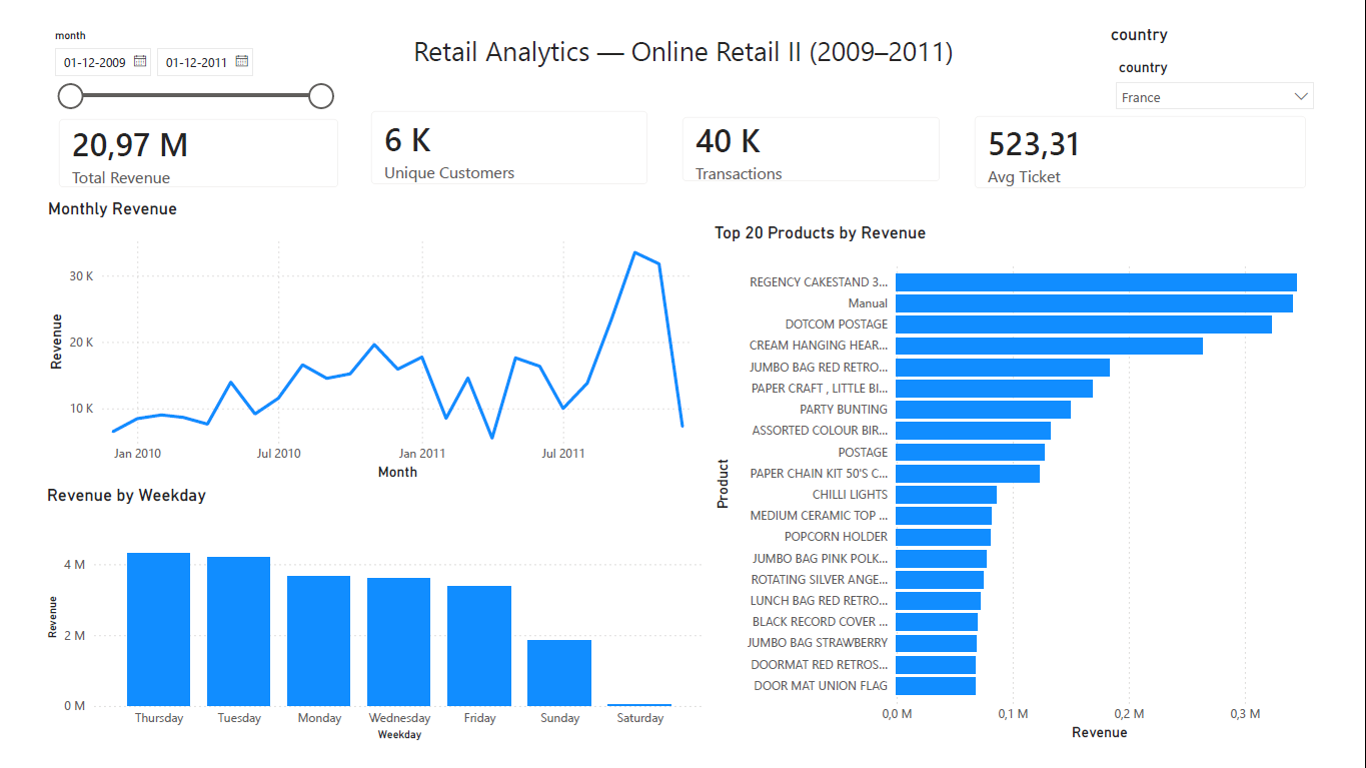

This screenshot's page, from the dashboard's own definition file:
{"tool":"powerbi","page":{"name":"Página 1","canvas":[1280,720],"ordinal":0},"visuals":[{"type":"cardVisual","fields":{"Data":["Sum(KPIs.total_revenue)"]},"box":[0,78.4,313.5,102.3],"z":0},{"type":"cardVisual","fields":{"Data":["Sum(KPIs.total_transactions)"]},"box":[623.4,76.1,291.2,98],"z":1},{"type":"cardVisual","fields":{"Data":["Sum(KPIs.unique_customers)"]},"box":[312.2,70.4,310.8,107.6],"z":2},{"type":"cardVisual","fields":{"Data":["Sum(KPIs.avg_ticket)"]},"box":[914.6,74.6,365.9,106.8],"z":3},{"type":"lineChart","title":"Monthly Revenue","fields":{"Y":["Sum(MonthlyRevenue.revenue)"],"Category":["MonthlyRevenue.month"]},"box":[1.5,174.1,665.9,285.4],"z":4},{"type":"clusteredBarChart","title":"Top 20 Products by Revenue","fields":{"Category":["TopProducts.description"],"Y":["Sum(TopProducts.revenue)"]},"box":[667.3,197.6,613.2,522.4],"z":5},{"type":"clusteredColumnChart","title":"Revenue by Weekday","fields":{"Category":["Weekday.weekday"],"Y":["Sum(Weekday.revenue)"]},"box":[0,459.5,667.3,260.5],"z":6},{"type":"slicer","title":"country","fields":{"Values":["MonthlyRevenue.country"]},"box":[1062.7,0,217.9,90.3],"z":7},{"type":"slicer","fields":{"Values":["MonthlyRevenue.month"]},"box":[0,0,300,90.7],"z":8},{"type":"textbox","box":[365.9,2.9,567.8,52.7],"z":9}]}

Visuals, with their boxes in screenshot pixels (x1, y1, x2, y2), scaled from the page's 1280x720 canvas onto the 1366x768 screenshot:
cardVisual - Sum(KPIs.total_revenue): box(0, 84, 335, 193)
cardVisual - Sum(KPIs.total_transactions): box(665, 81, 976, 186)
cardVisual - Sum(KPIs.unique_customers): box(333, 75, 665, 190)
cardVisual - Sum(KPIs.avg_ticket): box(976, 80, 1365, 193)
"Monthly Revenue" lineChart: box(2, 186, 712, 490)
"Top 20 Products by Revenue" clusteredBarChart: box(712, 211, 1365, 767)
"Revenue by Weekday" clusteredColumnChart: box(0, 490, 712, 767)
"country" slicer: box(1134, 0, 1365, 96)
slicer - MonthlyRevenue.month: box(0, 0, 320, 97)
textbox: box(390, 3, 996, 59)
